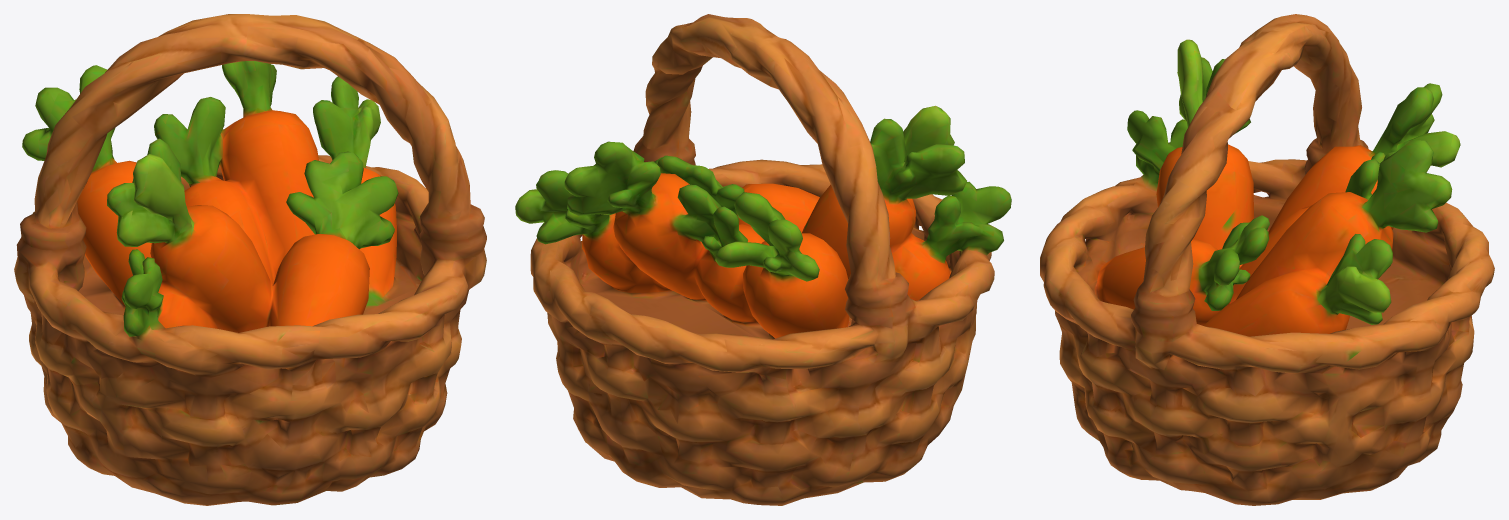
The picture shows the model from 3 angles, left to right: view 1: azimuth 30°, elevation 25°; view 2: azimuth 150°, elevation 25°; view 3: azimuth 270°, elevation 25°; orthographic projection. The views are drawn at different scales.
Parts seen in each view (by area): view 1: carrot-basket; view 2: carrot-basket; view 3: carrot-basket.
Boxes of the visible parts, x1=… form: carrot-basket: x1=14, y1=14, x2=486, y2=505; carrot-basket: x1=515, y1=14, x2=1011, y2=505; carrot-basket: x1=1040, y1=14, x2=1494, y2=505.
Bounding box in the file's own units: 0.5502 × 0.5409 × 0.5491.
1 material, 1 textured.
